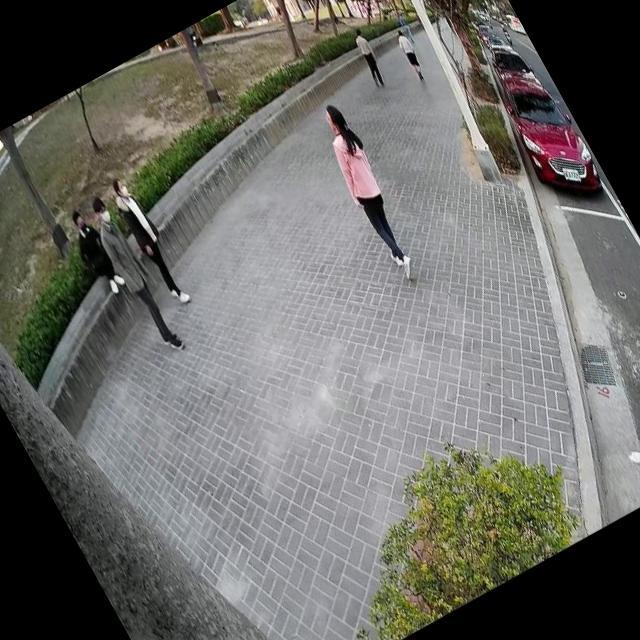person: (300, 92, 428, 280), (78, 190, 190, 360), (100, 166, 198, 312), (56, 200, 132, 302), (346, 23, 392, 90), (388, 22, 433, 86)
